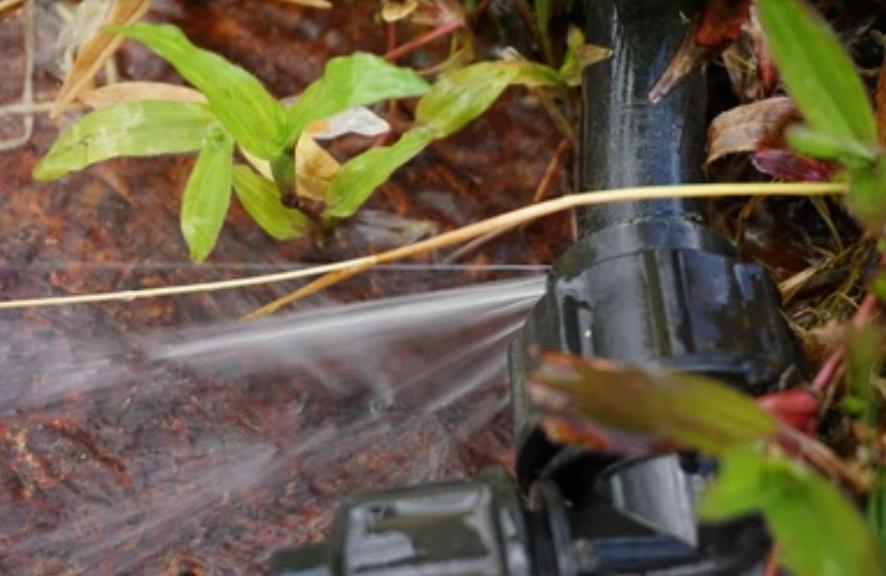pipe burst: (0, 256, 572, 576)
